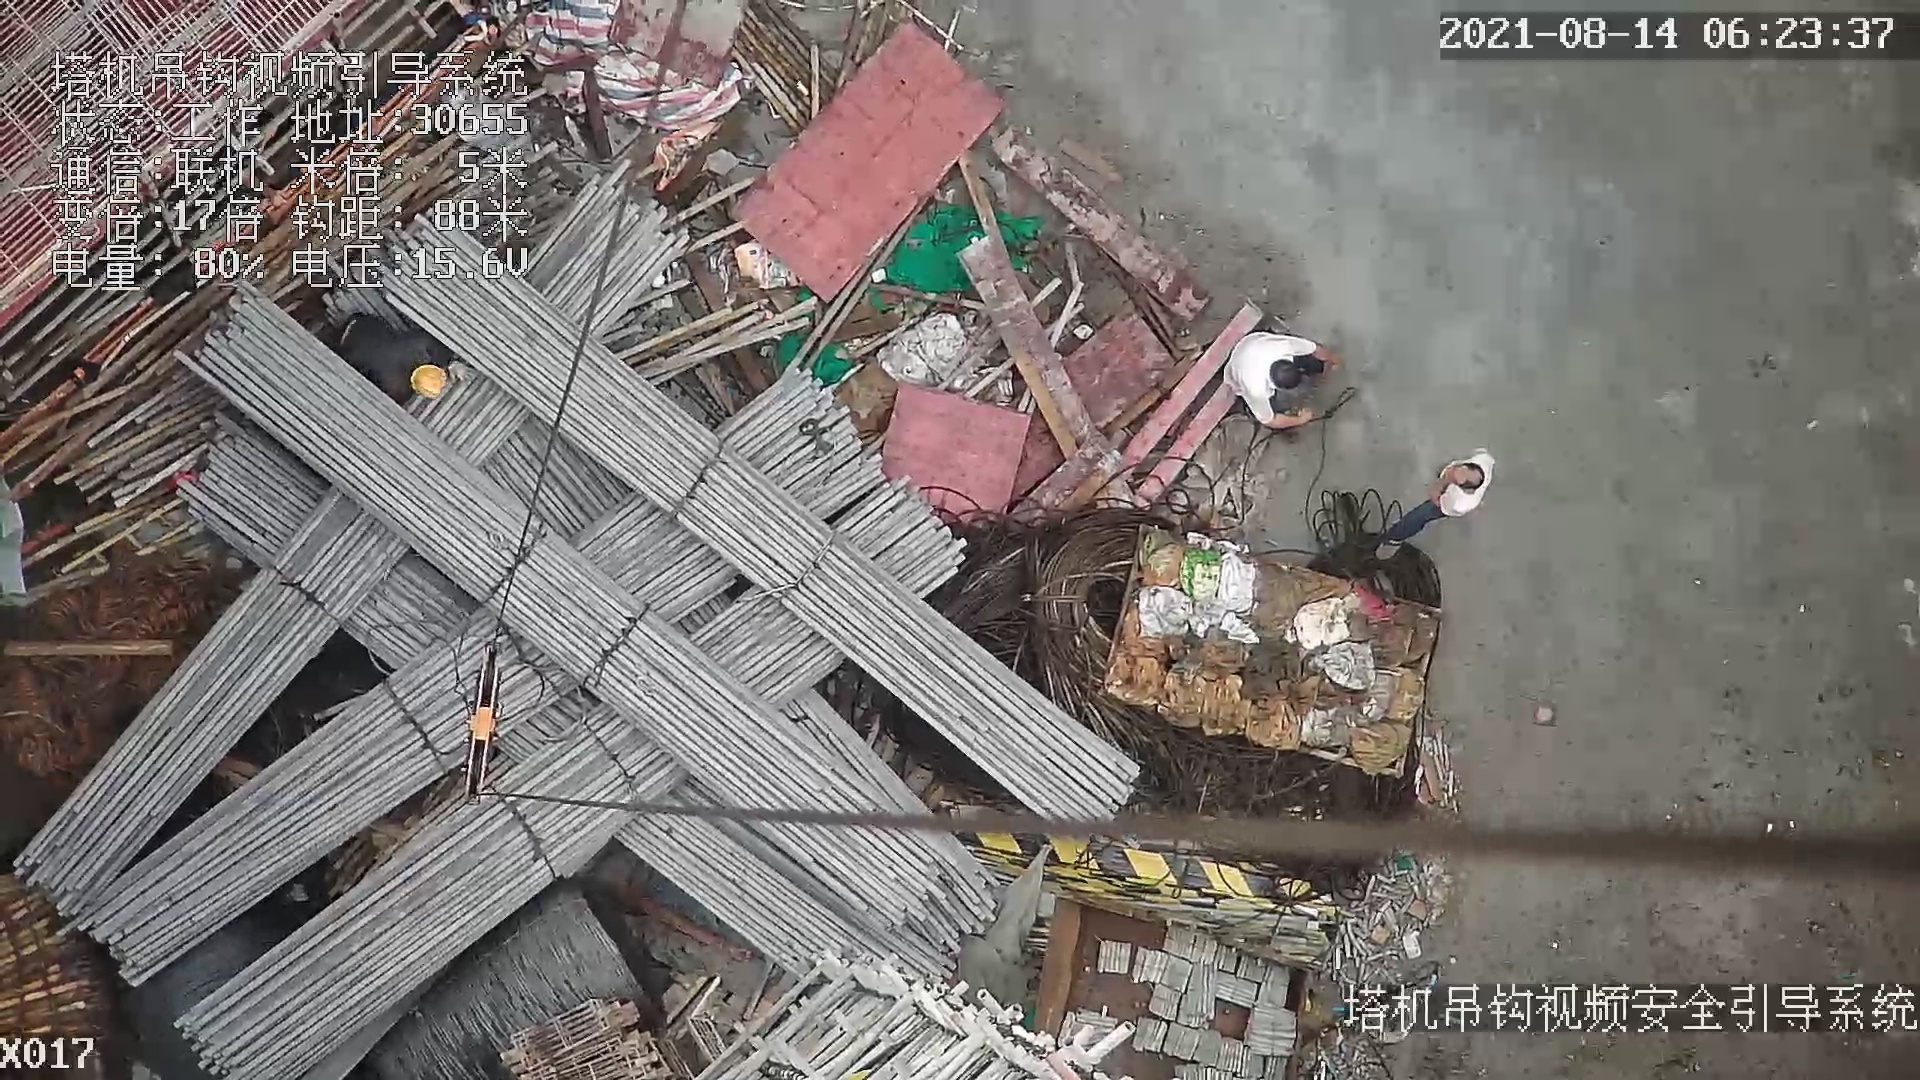helmet: (409, 365, 447, 399)
hook: (453, 635, 506, 810)
person: (1373, 426, 1500, 563), (331, 304, 488, 404), (1223, 331, 1340, 433)
rebar: (177, 287, 955, 930), (383, 279, 1140, 823), (178, 696, 685, 1080), (83, 604, 577, 985), (13, 488, 406, 918)
wood: (1, 870, 117, 1032)
